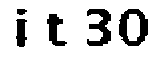0: (119, 9, 151, 48)
3: (86, 8, 114, 50)
i: (12, 5, 34, 57)
t: (39, 9, 70, 52)
